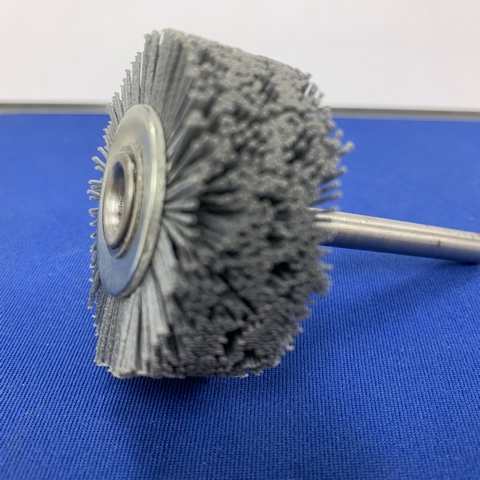Wheel Brush: (88, 38, 480, 414), (91, 48, 480, 347), (73, 18, 358, 393)
